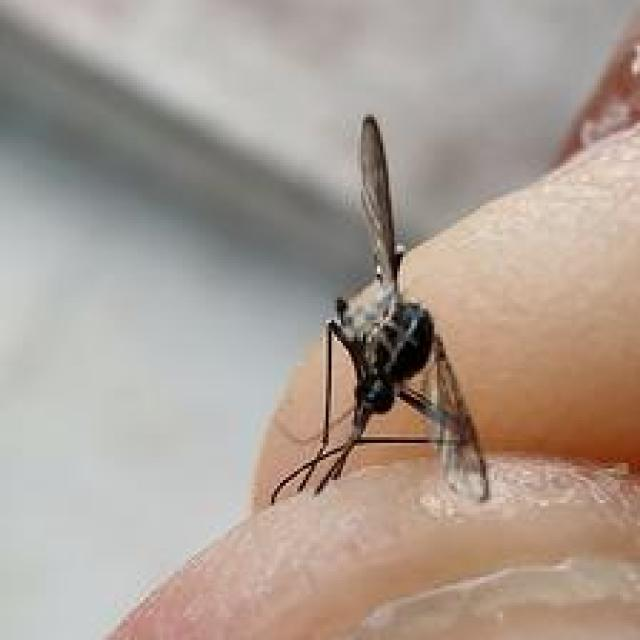Aedes albopictus: (268, 111, 492, 508)
